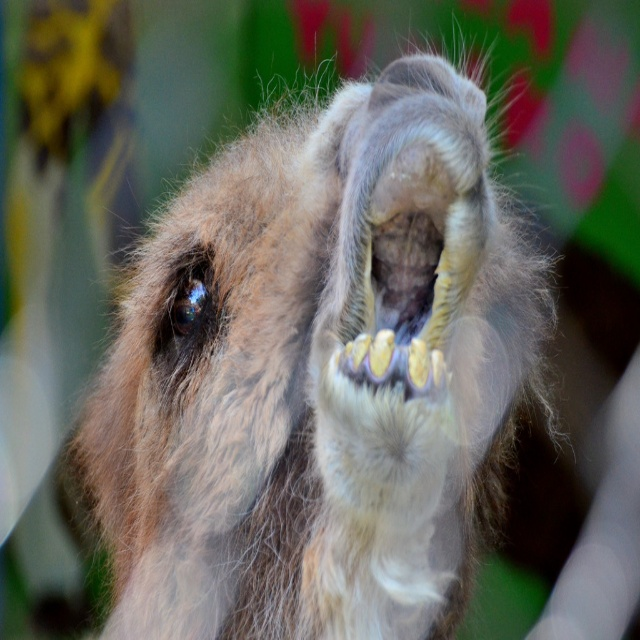Camel: (57, 4, 574, 639)
